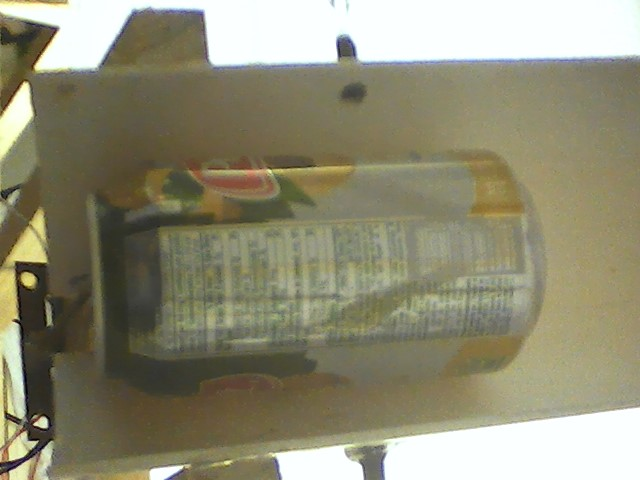lata: (80, 146, 557, 403)
